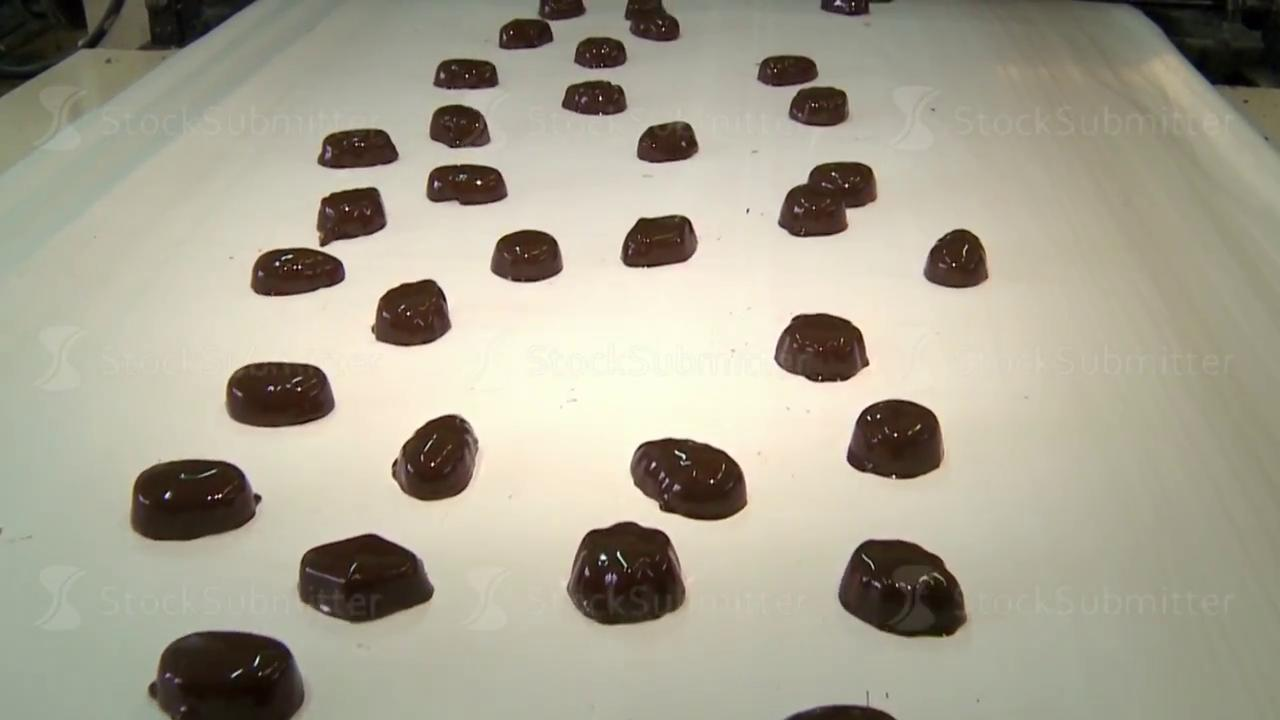chocolate: (148, 629, 304, 718), (838, 538, 967, 637), (566, 521, 685, 624), (298, 532, 434, 622), (130, 458, 260, 541), (630, 437, 747, 519), (847, 398, 944, 479), (391, 413, 479, 500), (226, 361, 334, 427), (774, 312, 869, 382), (372, 278, 450, 345), (251, 247, 344, 296), (316, 186, 386, 245), (621, 214, 697, 267), (924, 228, 988, 288), (778, 183, 848, 237), (491, 229, 562, 282), (427, 163, 507, 205), (317, 127, 398, 168), (808, 161, 877, 207), (429, 104, 490, 148), (637, 120, 698, 162), (789, 86, 848, 126), (562, 79, 626, 115), (624, 1, 679, 41), (433, 58, 498, 89), (757, 55, 817, 85), (498, 18, 553, 49), (574, 36, 626, 68)
